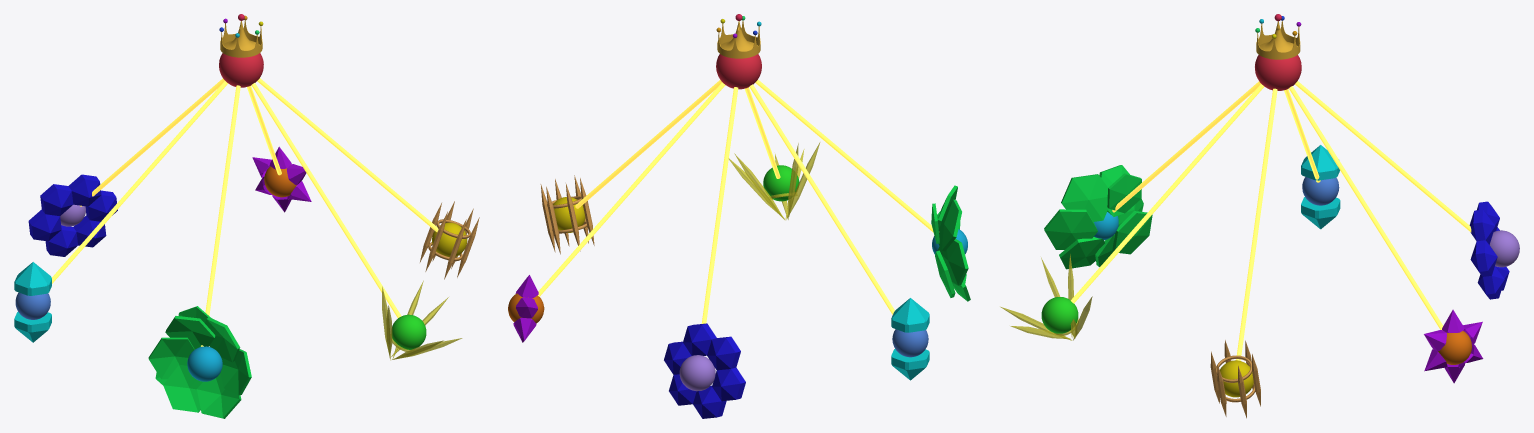
File: OrerryTop.fbx
3 views of the same model, side by side, from view 1: azimuth 30°, elevation 25°; view 2: azimuth 150°, elevation 25°; view 3: azimuth 270°, elevation 25° (orthographic). The views are drawn at different scales.
Visible parts, largest first — view 1: Gem_red_Sphere.013; view 2: Gem_red_Sphere.013; view 3: Gem_red_Sphere.013.
Part boxes in pixels (x1,y1,x2,y2): Gem_red_Sphere.013: (14, 14, 479, 418); Gem_red_Sphere.013: (508, 14, 970, 418); Gem_red_Sphere.013: (1000, 14, 1519, 418).
Size of the model in its own units: 251 by 175 by 259.
